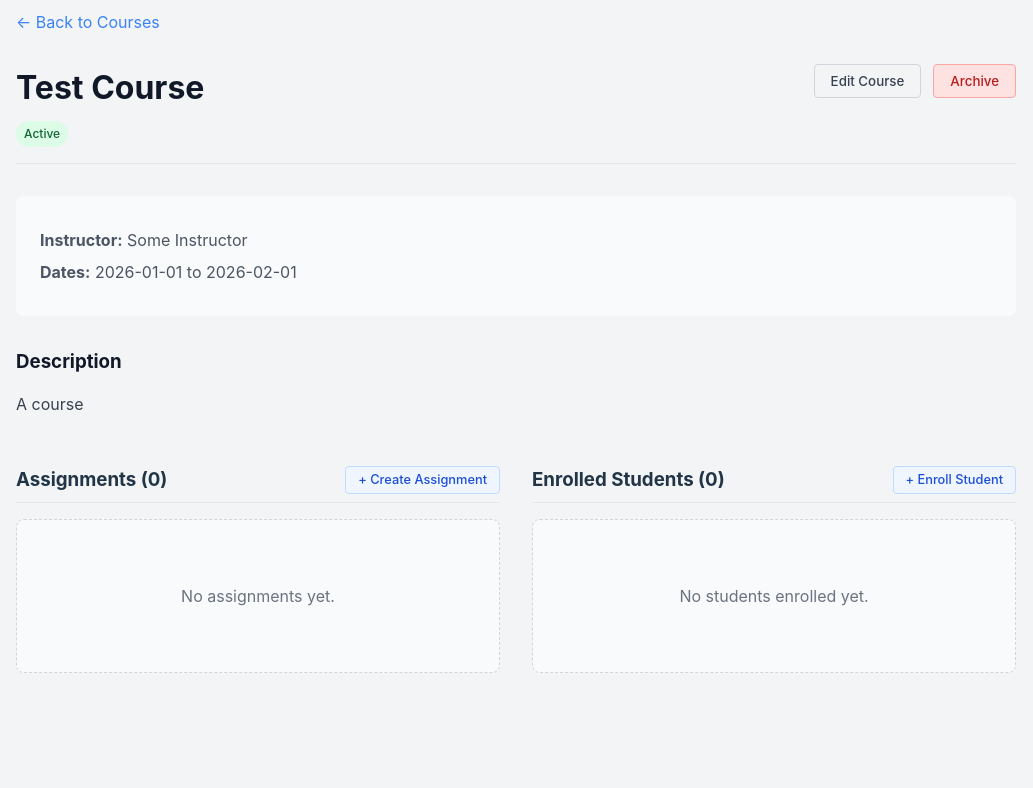
Scenario: CourseDetail.vue — student enrollment search › searches students after debounce and renders matches
This screenshot has width=1033, height=788.
Click the button with class "enroll-toggle-btn" showing "+ Enroll Student": {"x": 954, "y": 480} [892, 466, 1016, 494]
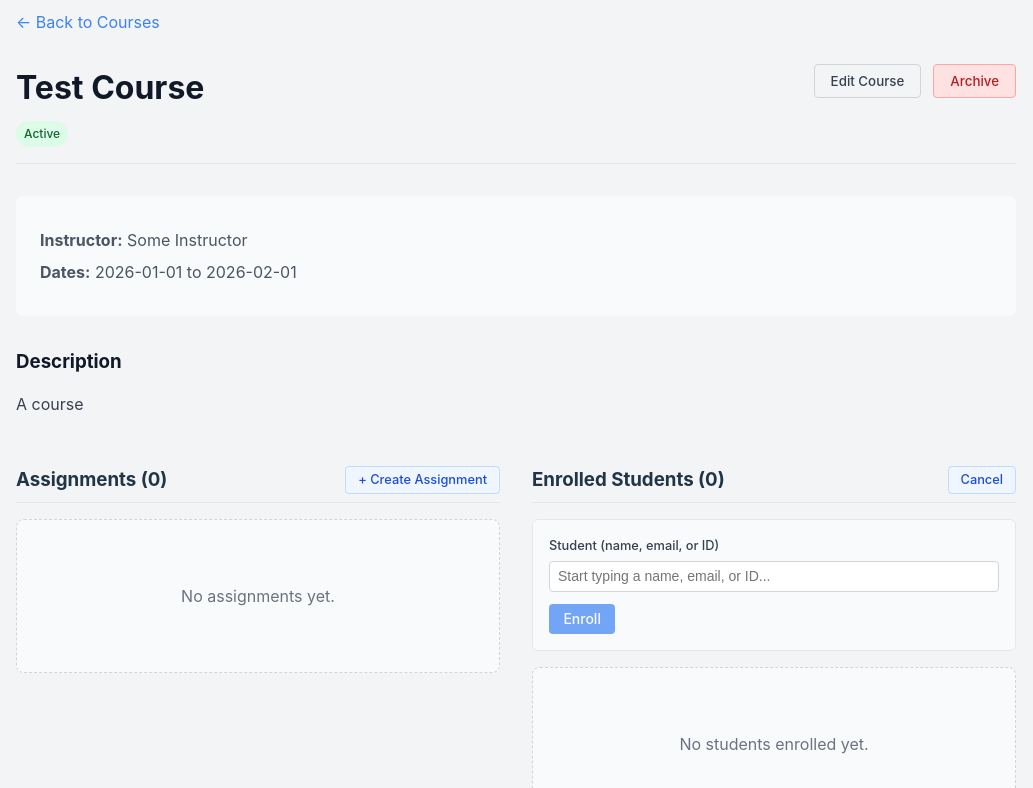
In the field with id "enroll-search": {"x": 774, "y": 576} [549, 561, 999, 592], type "Alice"
Wait 300 ms
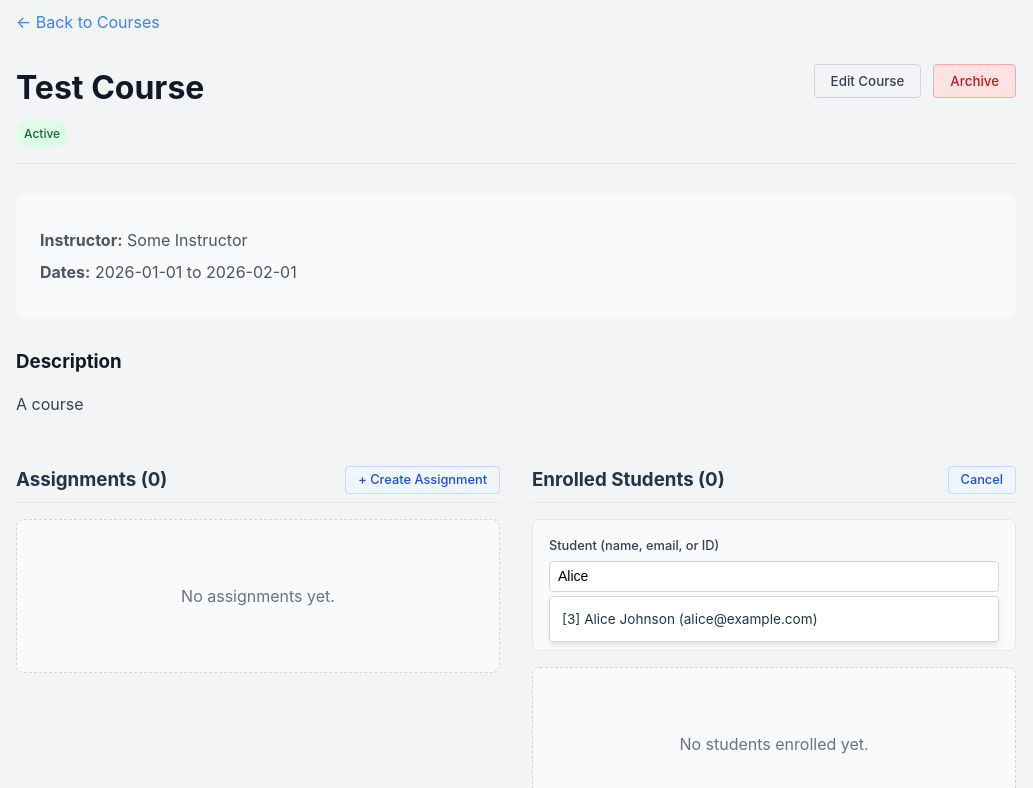
Now the text "[3] Alice Johnson (alice@example.com)" is shown, box [562, 611, 818, 627]
